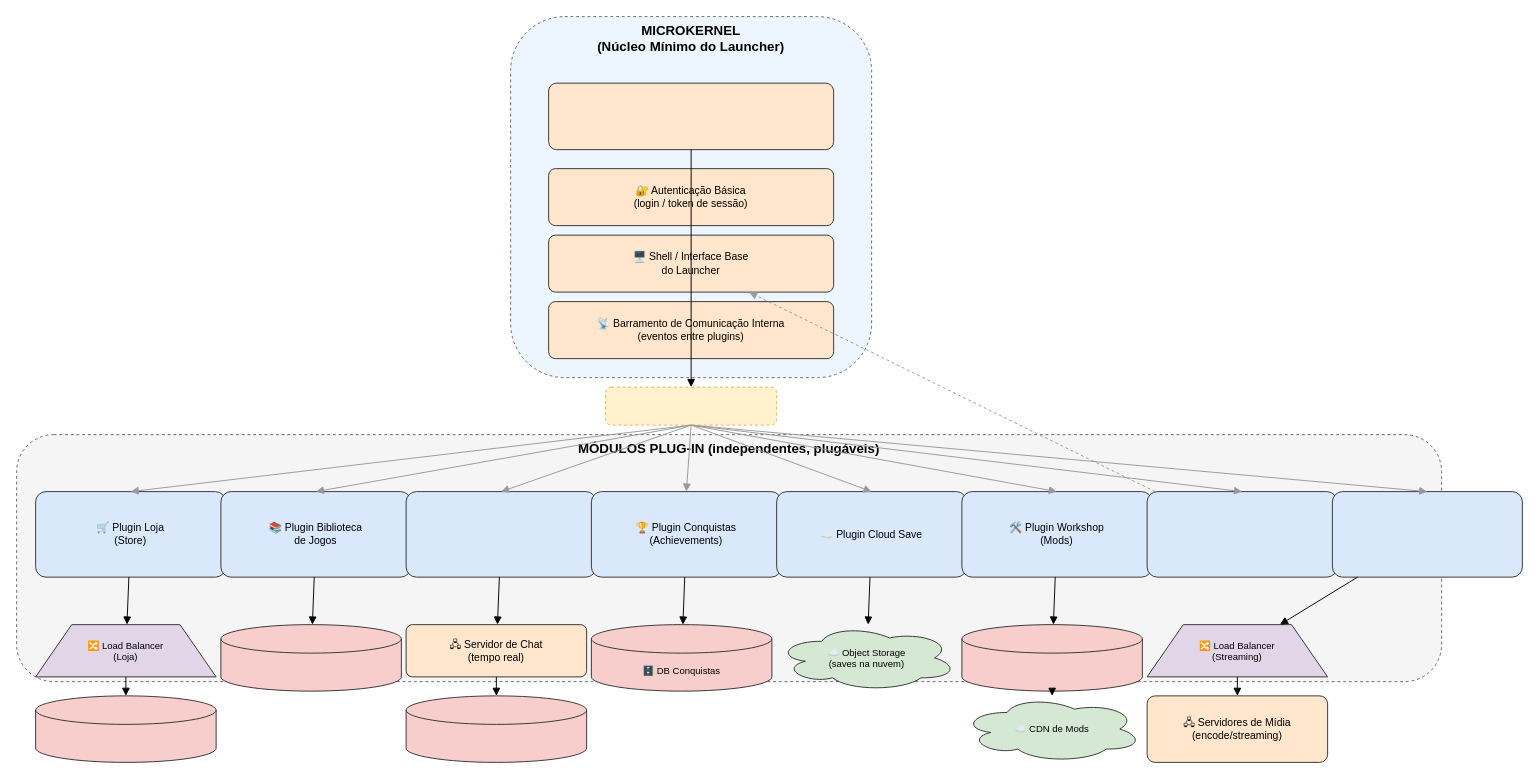
This 1539x779 diagram has some shape labels left out. Each missing label, with the centre of its shape:
"«contrato» IPluginInterface" goes at [691,405].
"🎥 Plugin Overlay (in-game)" goes at [1241,534].
"💬 Plugin Amigos & Chat" goes at [500,534].
"📺 Plugin Remote Play (Streaming)" goes at [1426,534].
"🗄️ DB Amigos/Mensagens" goes at [496,728].
"🗄️ DB Biblioteca (jogos do usuário)" goes at [310,657].
"🗄️ DB Catálogo/Preços" goes at [125,728].
"🗄️ DB Mods/Workshop" goes at [1051,657].
"🧩 Núcleo: Gerenciador de Plugins (Plugin Registry)" goes at [691,116].
